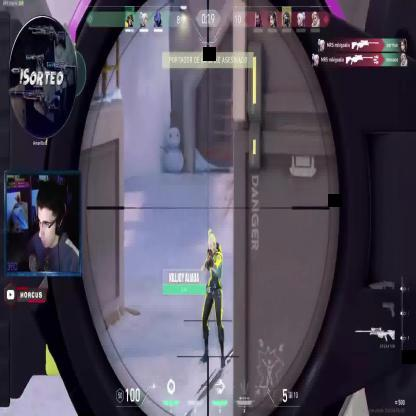enemy: (198, 230, 226, 368)
enemy_head: (205, 230, 217, 254)
